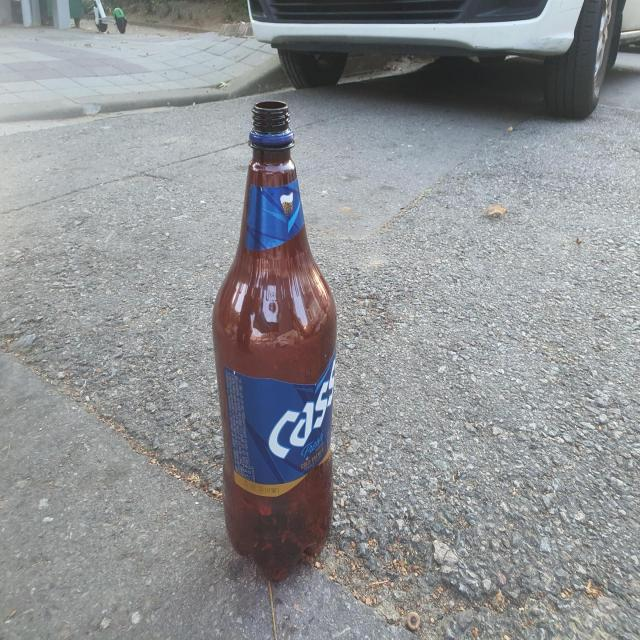plastic: (212, 100, 337, 580)
